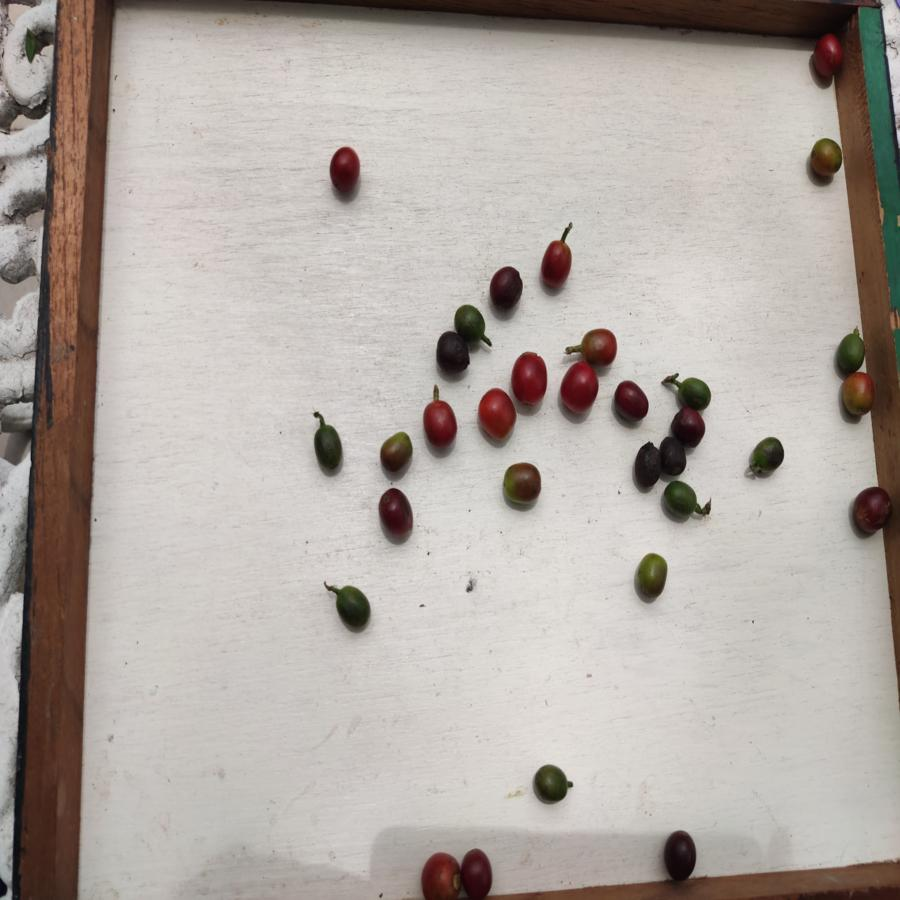Inmaduro: (334, 584, 374, 633), (314, 420, 346, 476), (532, 765, 572, 807), (660, 479, 700, 519), (751, 435, 788, 473), (836, 331, 865, 373), (676, 378, 714, 407), (456, 302, 484, 339)
Maduro: (511, 350, 550, 408), (559, 363, 599, 417), (477, 389, 517, 440), (420, 398, 459, 450), (420, 850, 461, 899), (811, 29, 845, 86), (538, 237, 573, 288), (327, 146, 365, 192)
Pinton: (500, 460, 543, 504), (807, 137, 850, 180), (841, 369, 876, 421), (578, 327, 618, 368), (635, 551, 669, 599), (380, 431, 415, 473)
Sobremaduro: (850, 487, 892, 540), (661, 829, 698, 881), (379, 486, 414, 537), (612, 380, 650, 425), (488, 265, 524, 312), (436, 329, 471, 376), (461, 846, 493, 895), (668, 408, 705, 449), (635, 441, 662, 492), (658, 437, 690, 479)
